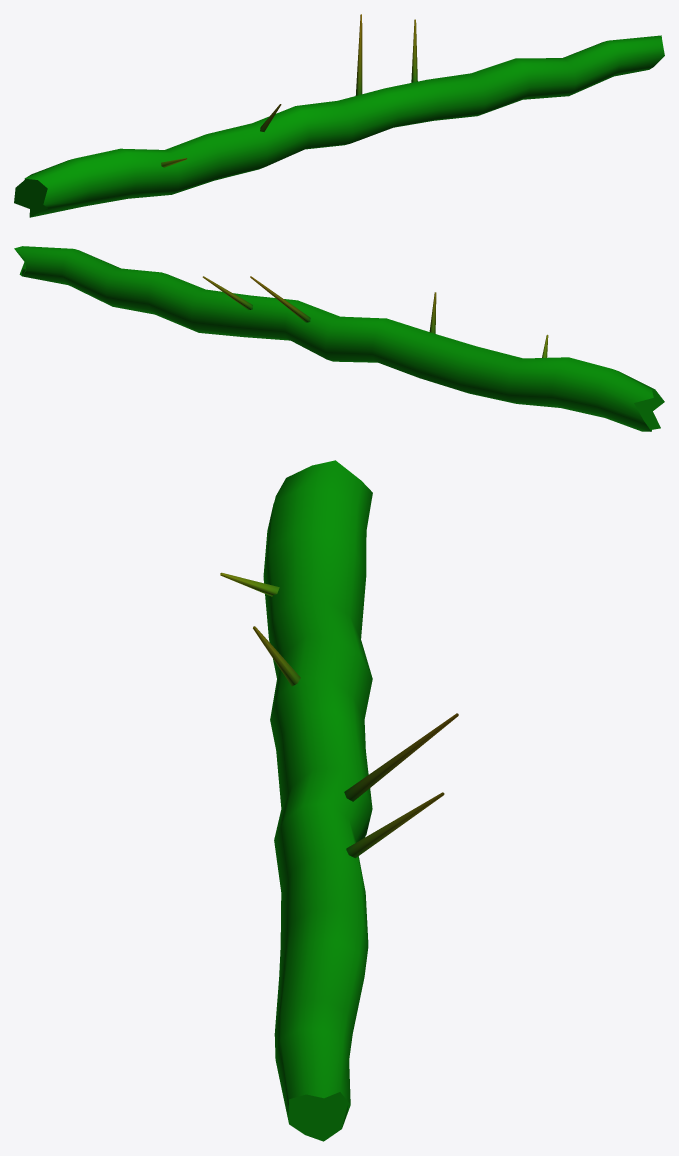
File: log_b.glb
3 views of the same model, one above another, from view 1: azimuth 30°, elevation 25°; view 2: azimuth 150°, elevation 25°; view 3: azimuth 270°, elevation 25° (orthographic). The views are drawn at different scales.
Parts seen in each view (by area): view 1: LOD0; view 2: LOD0; view 3: LOD0.
Part boxes in pixels (box(x1,y1,x2,y2)): LOD0: box(14, 14, 664, 217); LOD0: box(14, 246, 664, 431); LOD0: box(220, 460, 458, 1141).
Size of what is drawn, in the model's own units: 6.6 by 0.9564 by 1.07.
